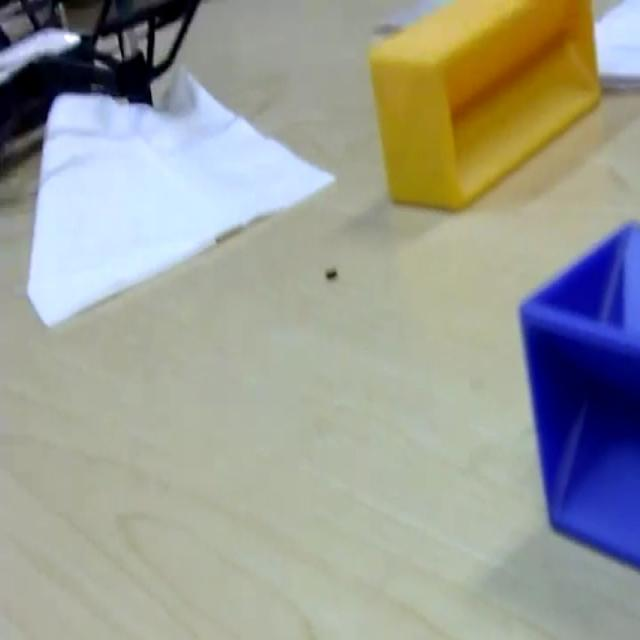blue_block: (517, 218, 638, 570)
yellow_block: (367, 0, 602, 211)
